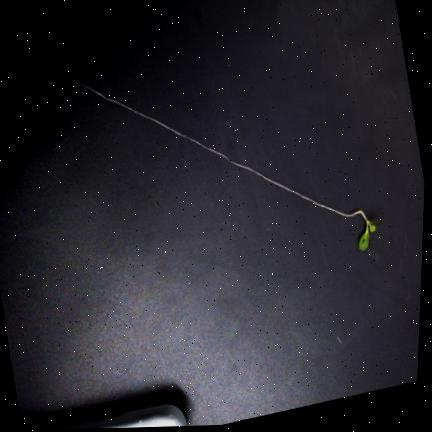leaf1: (369, 224, 376, 231)
leaf2: (359, 224, 369, 250)
leaf3: (369, 218, 385, 225)
root: (59, 70, 351, 215)
stem: (353, 210, 367, 221)
